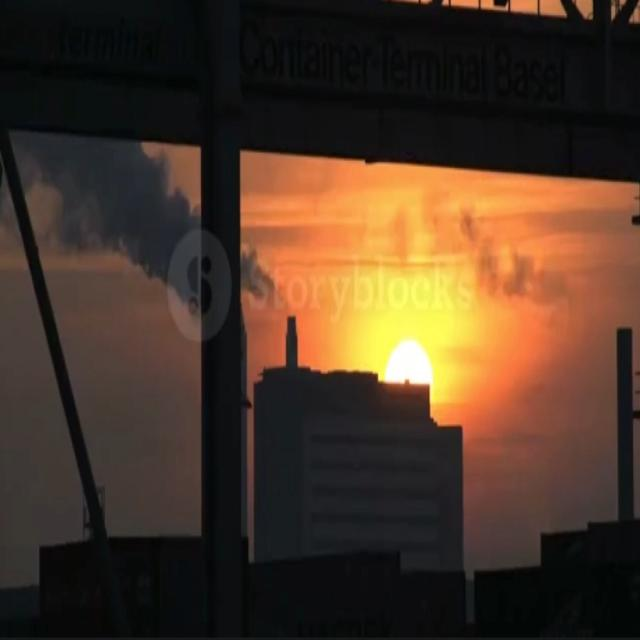smoke: (12, 134, 199, 282), (460, 208, 587, 309), (241, 245, 276, 300), (393, 210, 411, 259)
